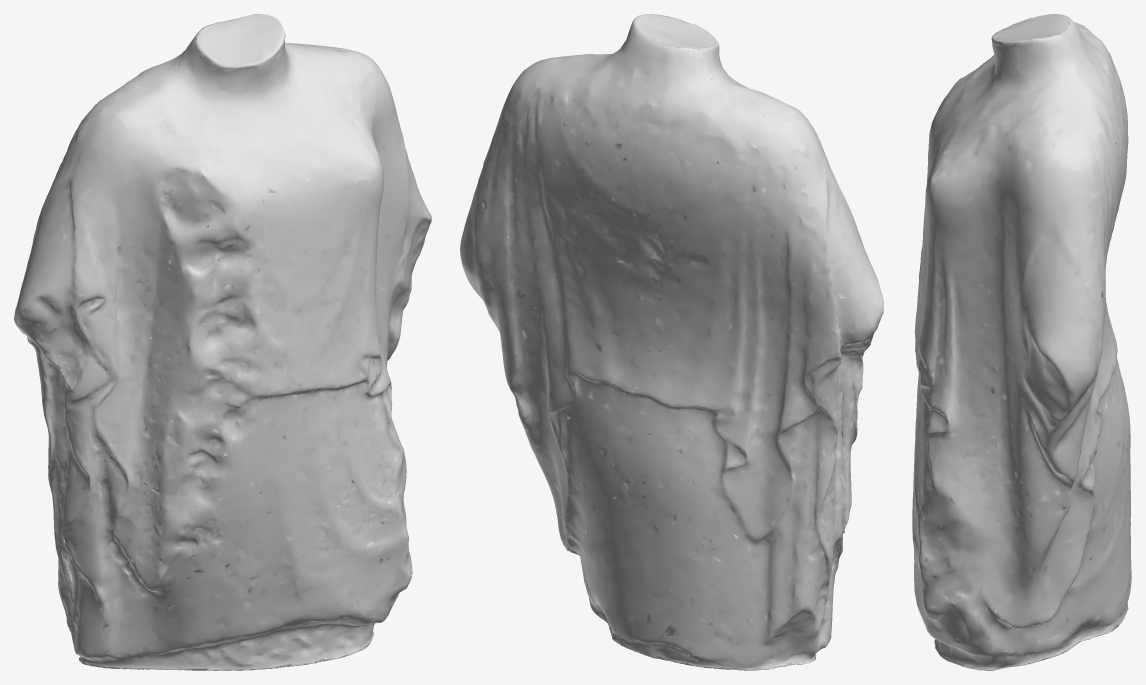
File: peplos.glb
3 views of the same model, side by side, from view 1: azimuth 30°, elevation 25°; view 2: azimuth 150°, elevation 25°; view 3: azimuth 270°, elevation 25° (orthographic).
Visible parts, largest first — view 1: Optimized_Joined_NO_MATERIAL; view 2: Optimized_Joined_NO_MATERIAL; view 3: Optimized_Joined_NO_MATERIAL.
Boxes of the visible parts, x1,y1,x2,y2 form: Optimized_Joined_NO_MATERIAL: (14,14,431,670); Optimized_Joined_NO_MATERIAL: (460,14,883,670); Optimized_Joined_NO_MATERIAL: (912,14,1131,670).
Bounding box in the file's own units: 94.14 × 130 × 43.13.
1 material, 1 textured.
